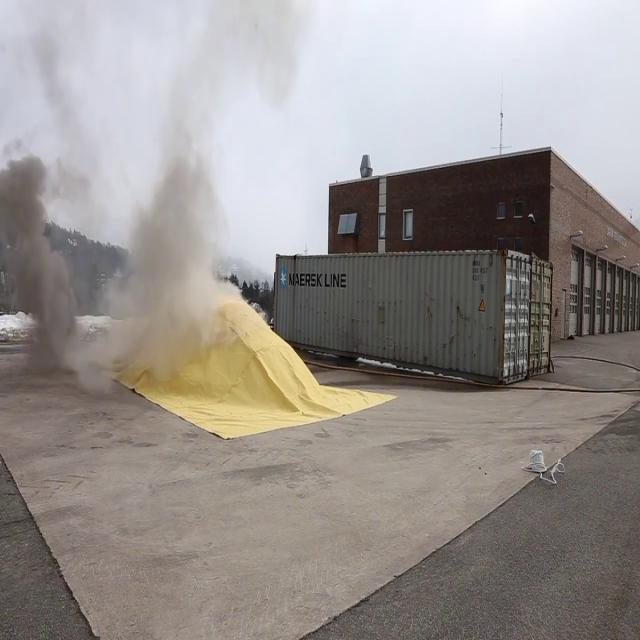Smoke: (0, 56, 236, 374)
